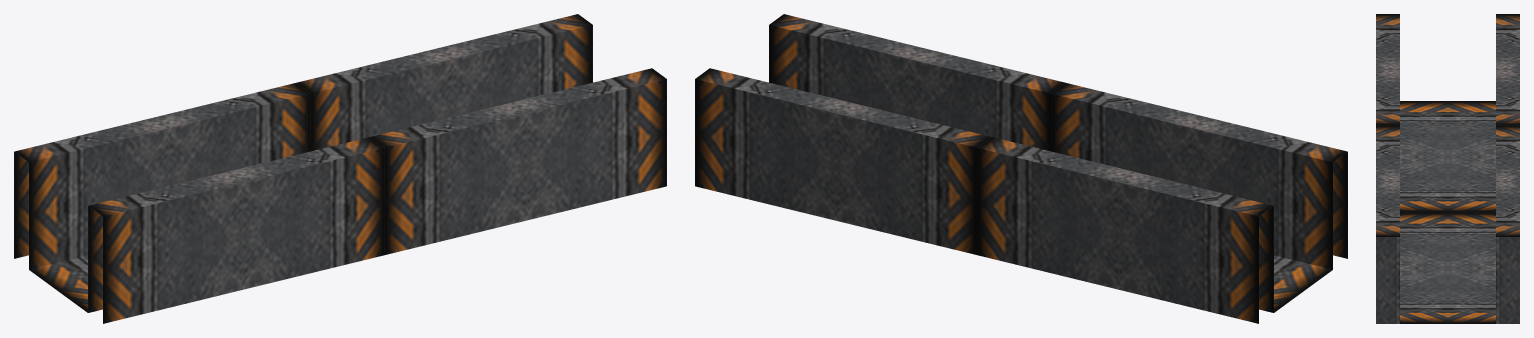
The model's file is blindHallway.fbx.
The picture shows the model from 3 angles, left to right: view 1: azimuth 30°, elevation 25°; view 2: azimuth 150°, elevation 25°; view 3: azimuth 270°, elevation 25°; orthographic projection. The views are drawn at different scales.
Parts seen in each view (by area): view 1: BlindHallway; view 2: BlindHallway; view 3: BlindHallway.
Boxes of the visible parts, <box> form: BlindHallway: <box>14,14,666,323</box>; BlindHallway: <box>695,14,1347,323</box>; BlindHallway: <box>1376,14,1519,323</box>.
Size of the model in its own units: 2200 by 400 by 600.
